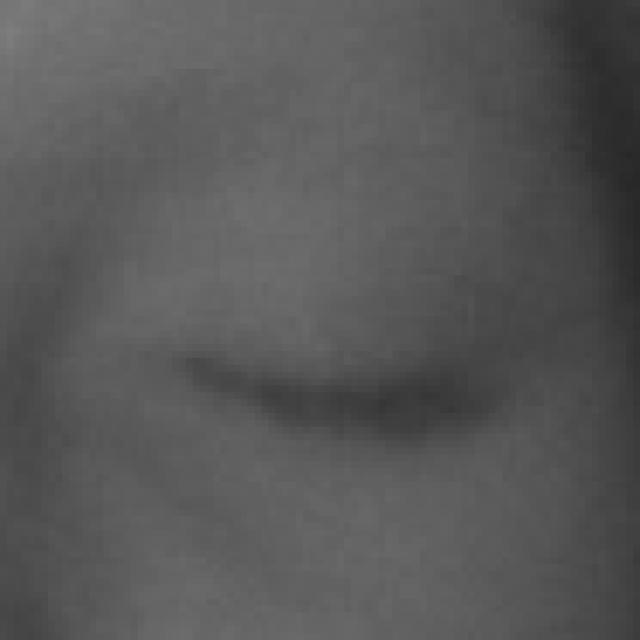Eyeclosed: (179, 207, 507, 585)
